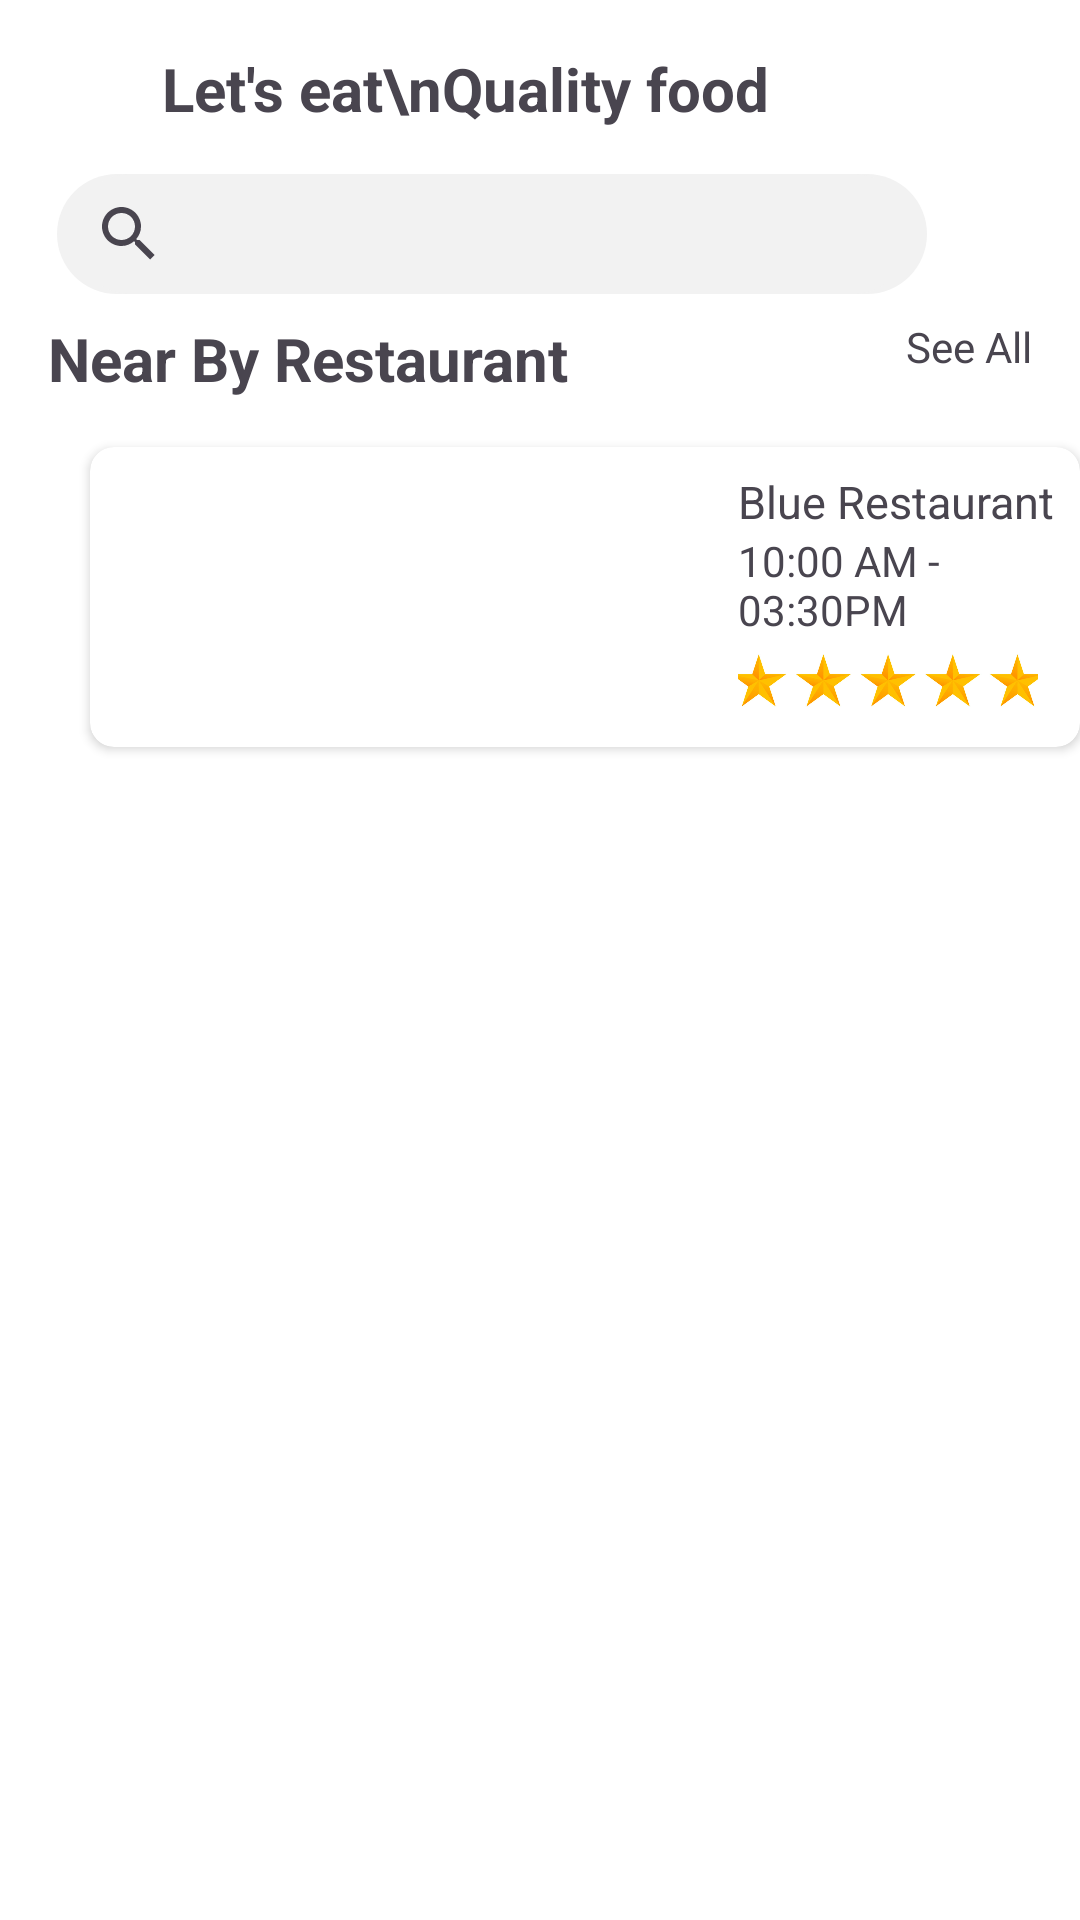

Locate icon controls on the screen. Image size 1080 x 1920, boxes as [left=x1, top=y1, right=x2, bottom=y2].
stars: [left=738, top=654, right=1038, bottom=706]
